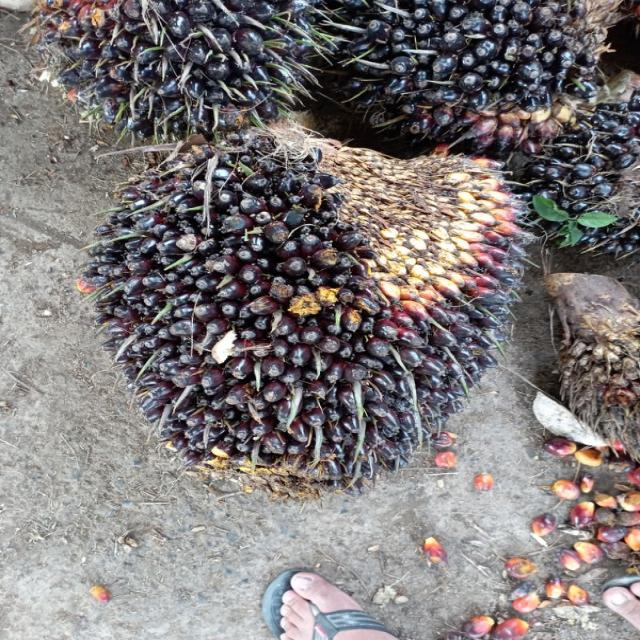fraksi 00: (53, 98, 566, 524)
